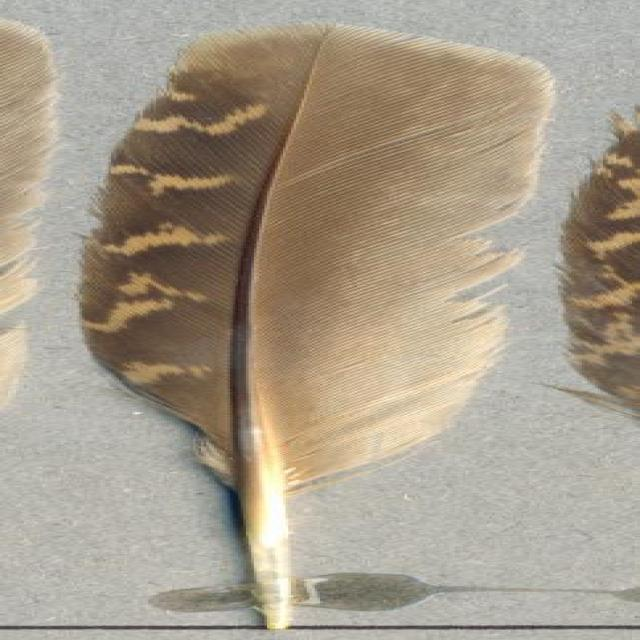feather: (63, 23, 566, 632)
